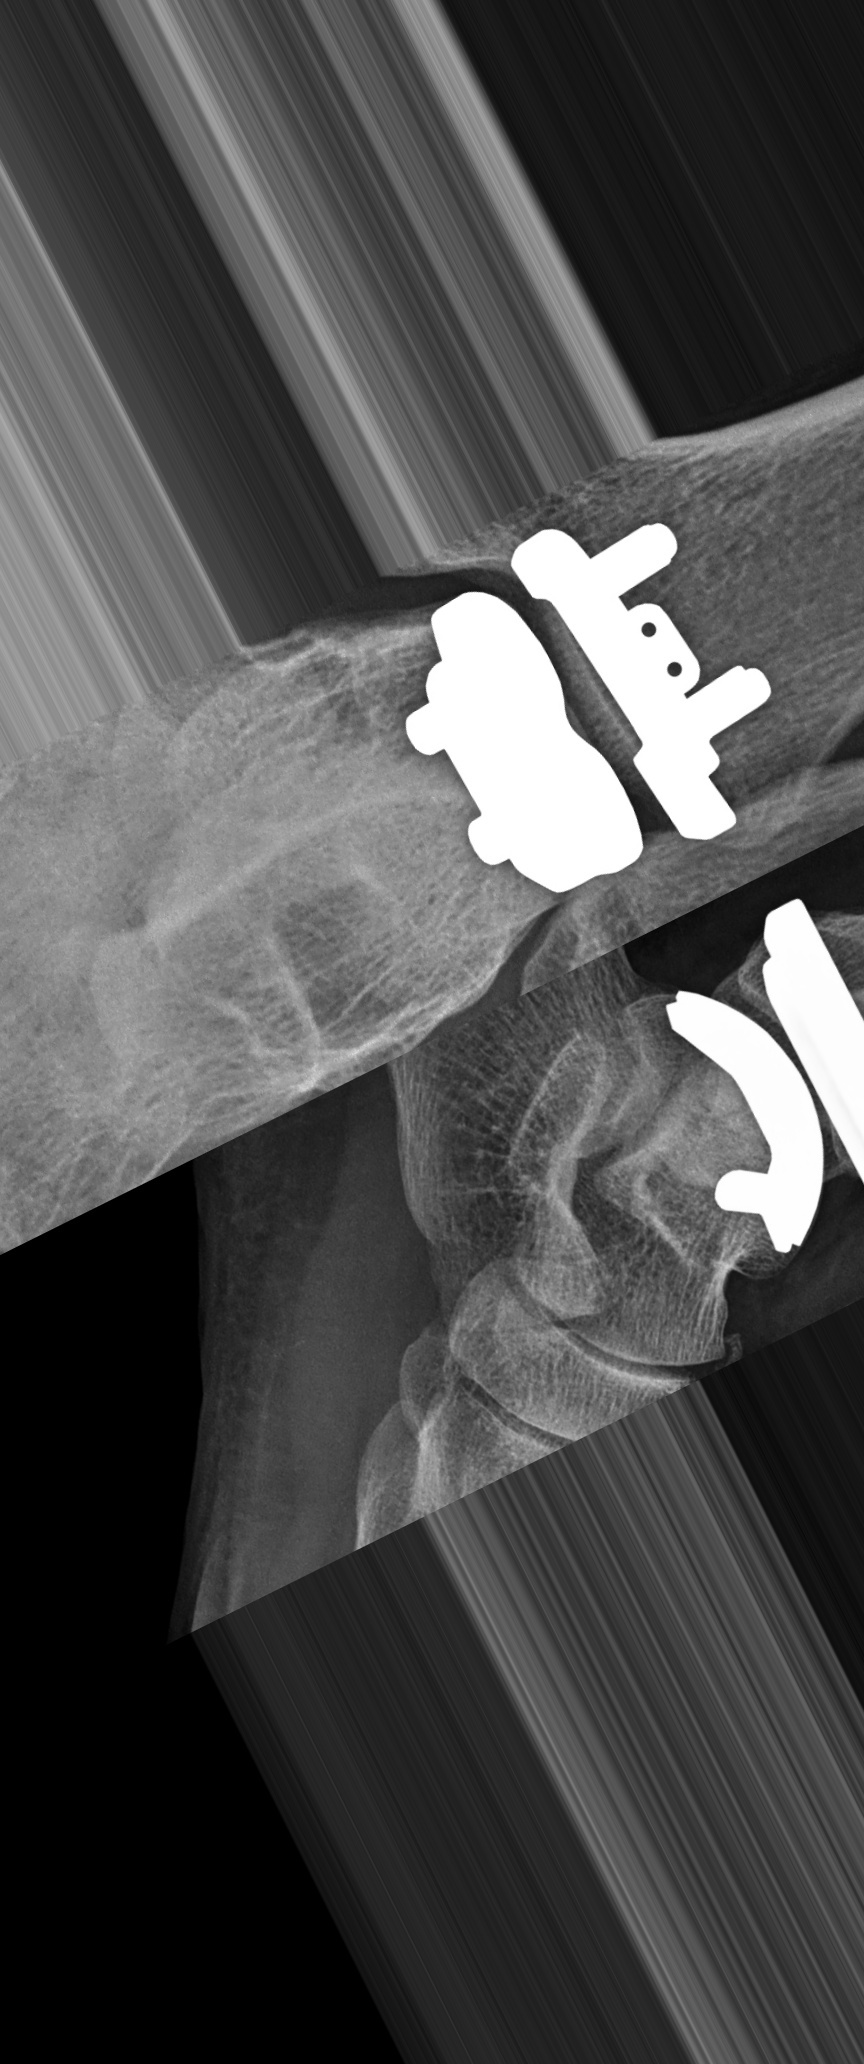Cadence-Integra: (394, 490, 799, 911), (644, 885, 864, 1297)
